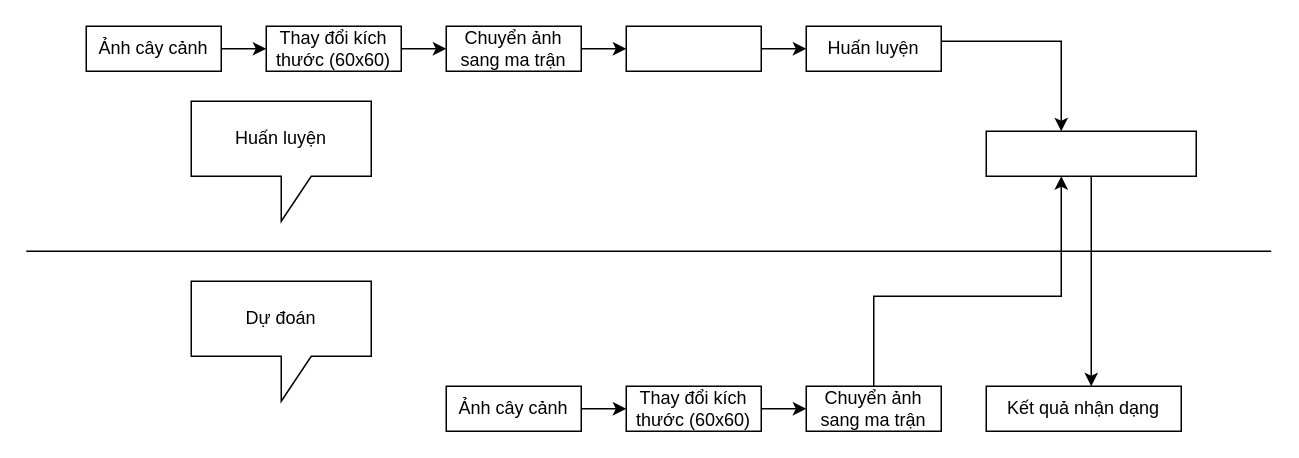
Image size: 1299x458. Some labels were removed from this diagram. Each missing label, with the box of its shape:
Mô hình phân loại: (985, 130, 1196, 176)
Mô hình VGG16: (625, 25, 761, 71)
